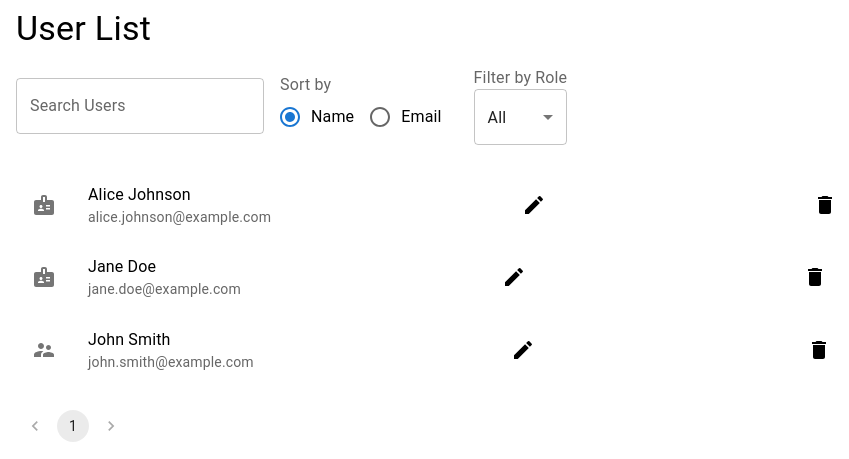
Test: UserEmployeeListMittel Component › filters users by role
Step 1. Press the mouse on the dropdown named "Filter by Role" → point(497, 118), box [488,108,506,127]
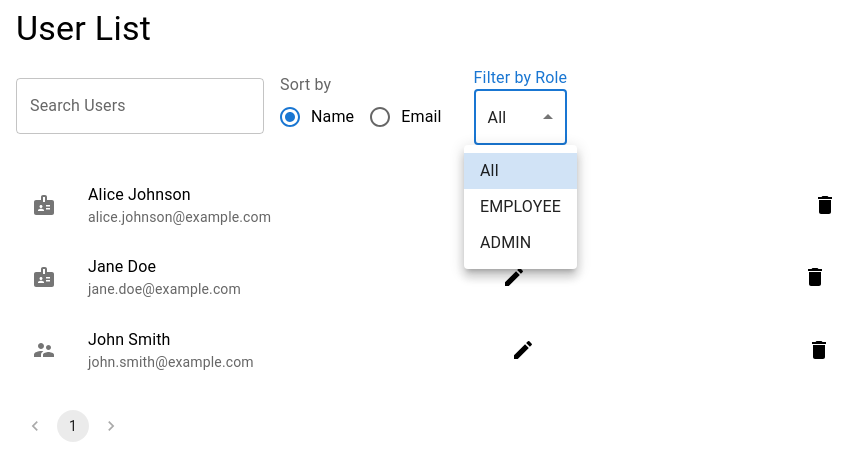
Step 2. Click the option "EMPLOYEE" → point(520, 206), box [480,197,561,216]
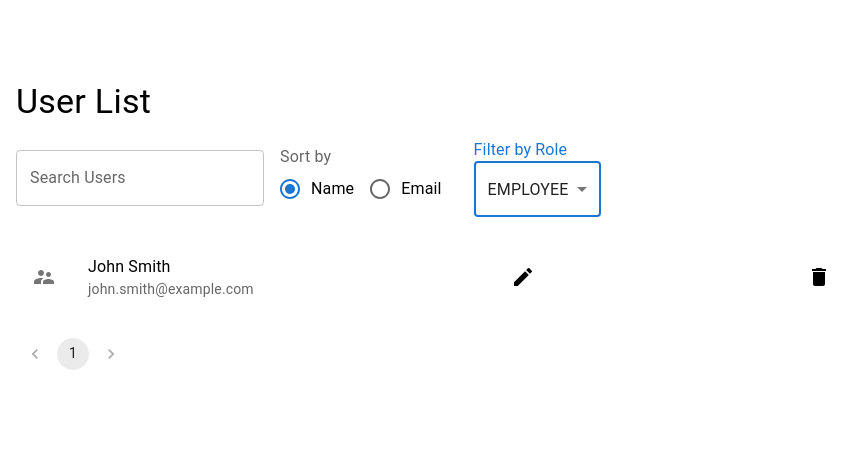
Check: the text "John Smith" is shown, box [88,258,170,276]
Check: the text "Jane Doe" is gone
Check: the text "Alice Johnson" is gone
